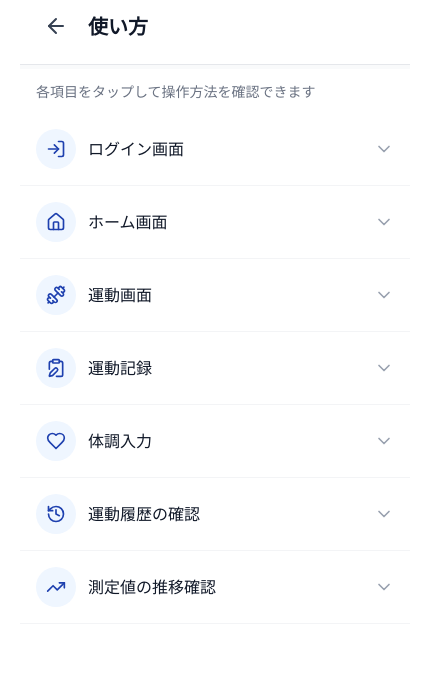
it: UserGuide（使い方） › accordion interaction › should show exercise screen section content when expanded
The image size is (431, 674).
Click the button "運動画面". click: [56, 295]
box: [20,259,410,331]
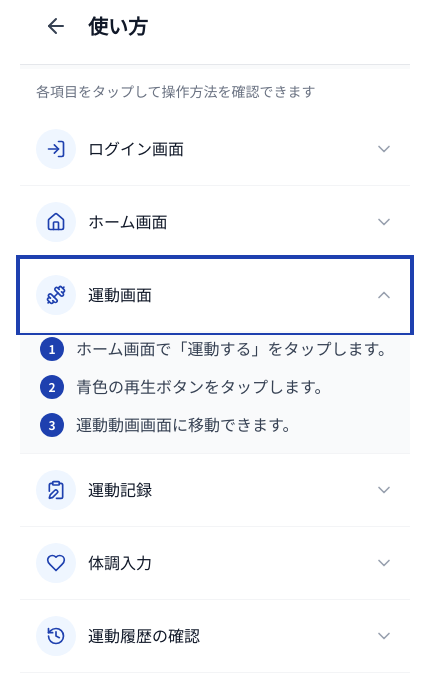
expect the text "ホーム画面で「運動する」をタップします。" is shown: met, box [76,335,394,361]
